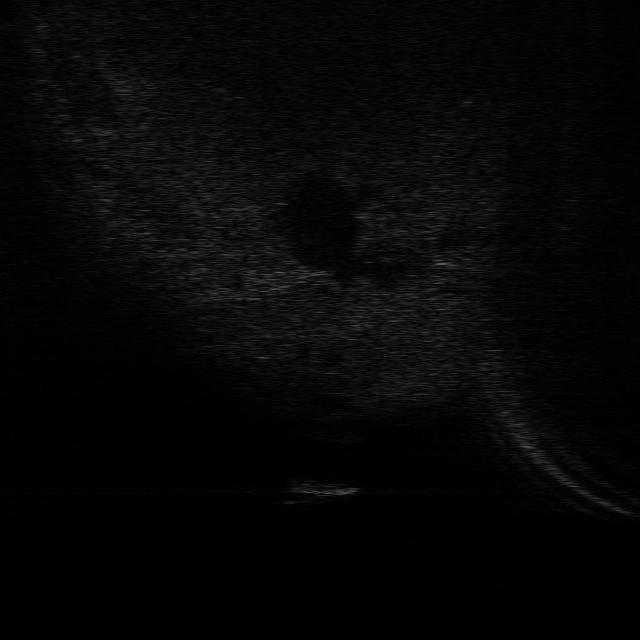cube: (283, 475, 362, 507)
